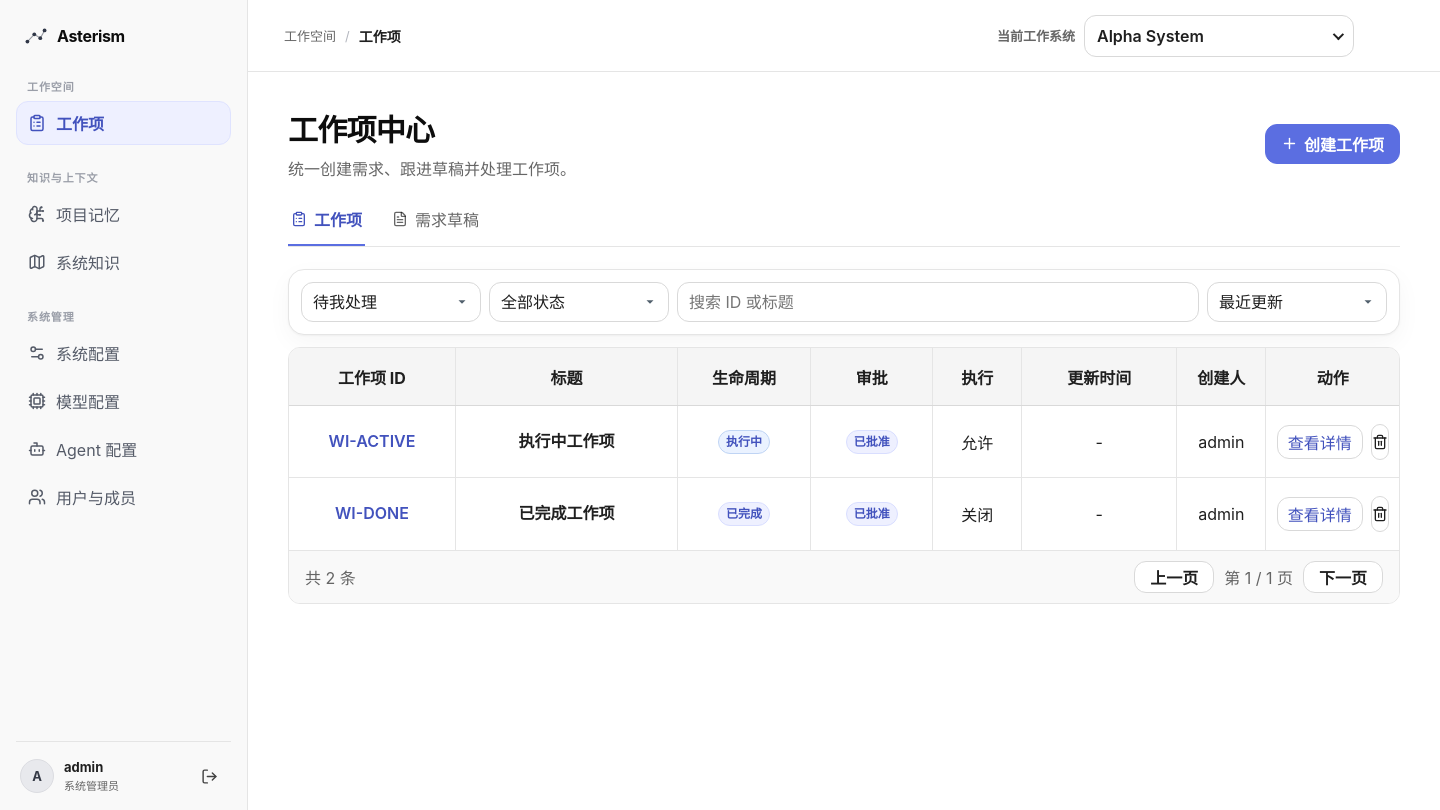
Test case: work item deletion is available regardless of lifecycle status
Expected: the button named "删除工作项 WI-ACTIVE" is enabled, [1371,424,1389,460]
Step 1. Click the button named "删除工作项 WI-DONE" → (1380, 514), box [1371,496,1389,532]
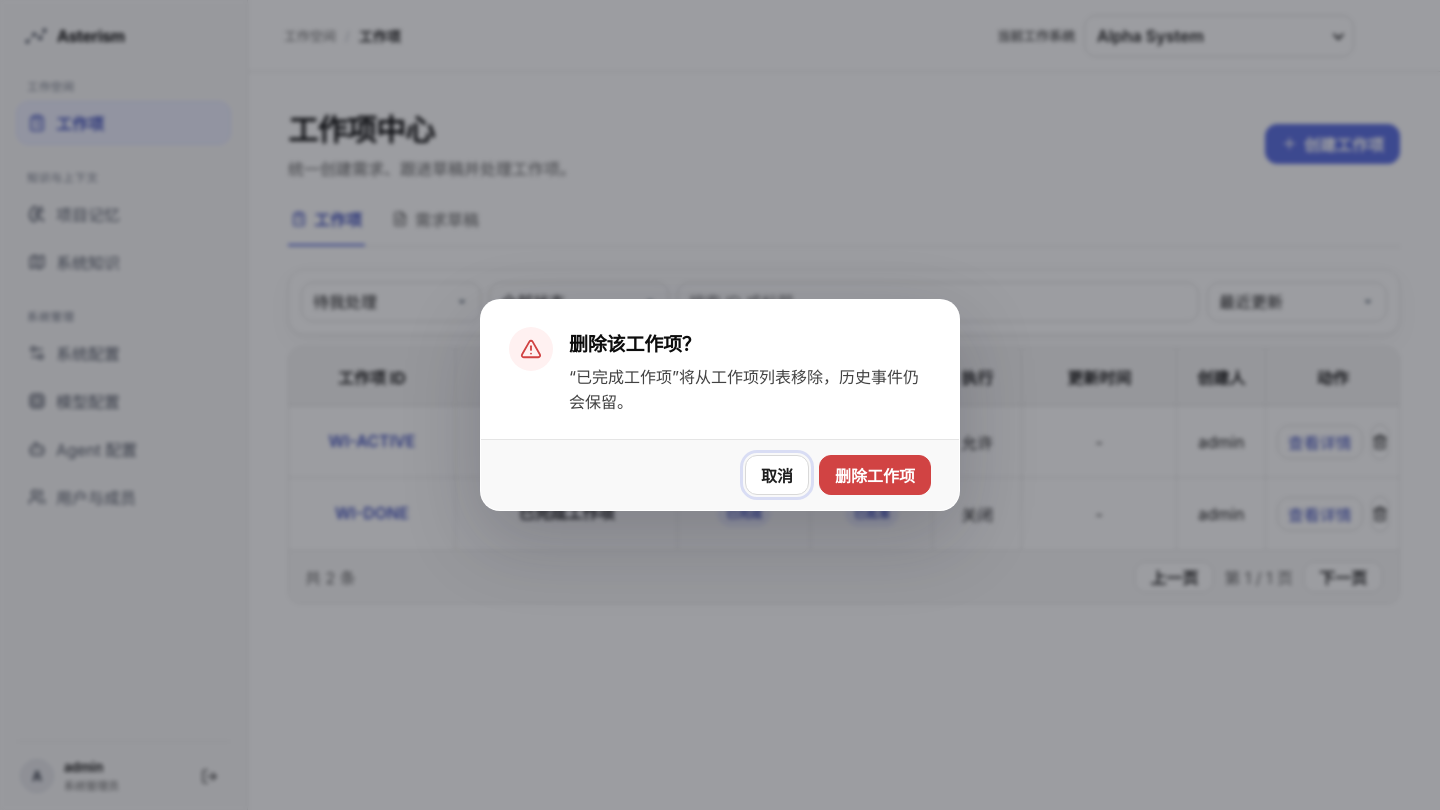
Step 2. Click the button "删除工作项" → (875, 475), box [819,455,931,495]
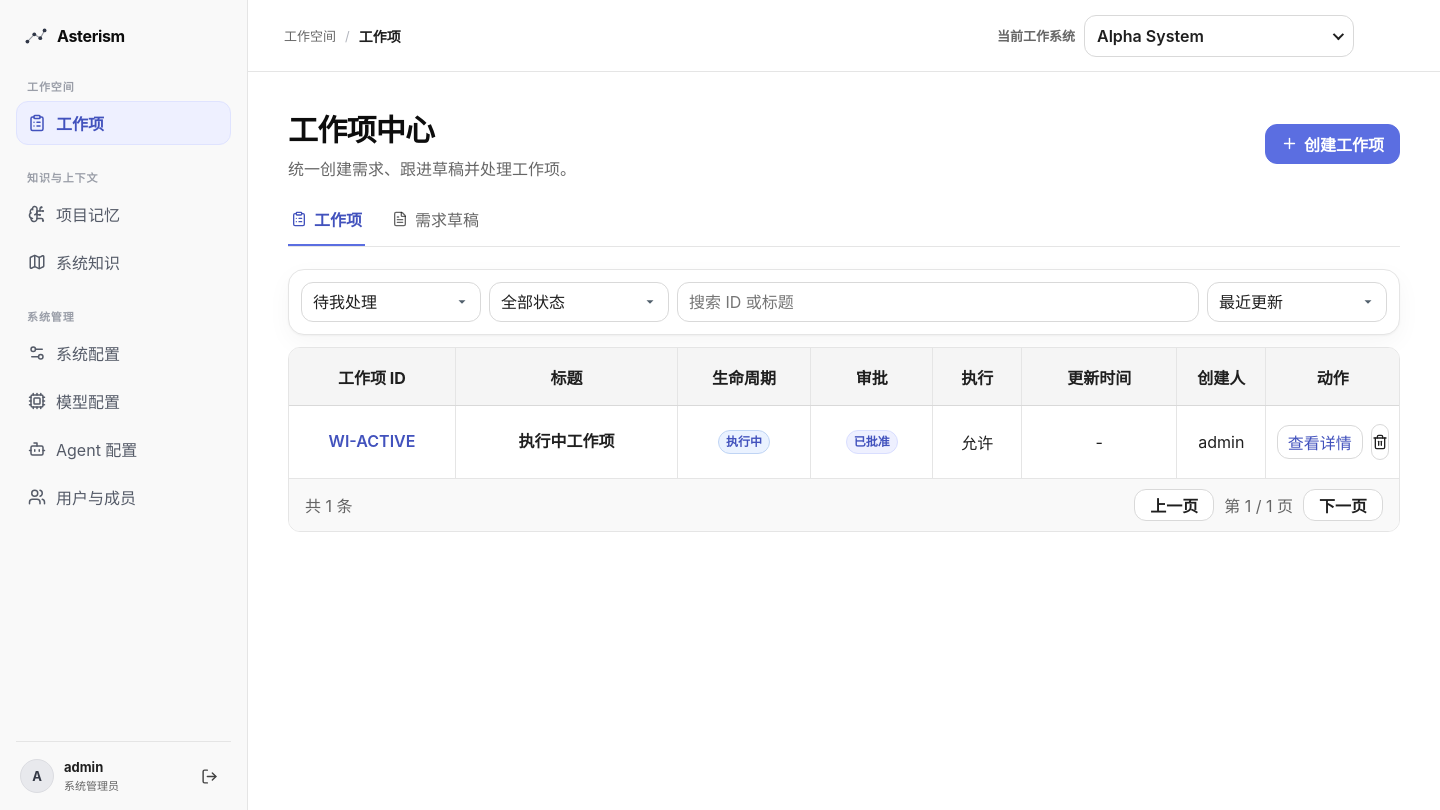
Expected: the text "执行中工作项" is shown, [518,432,614,452]
Result: the text "已完成工作项" is gone
